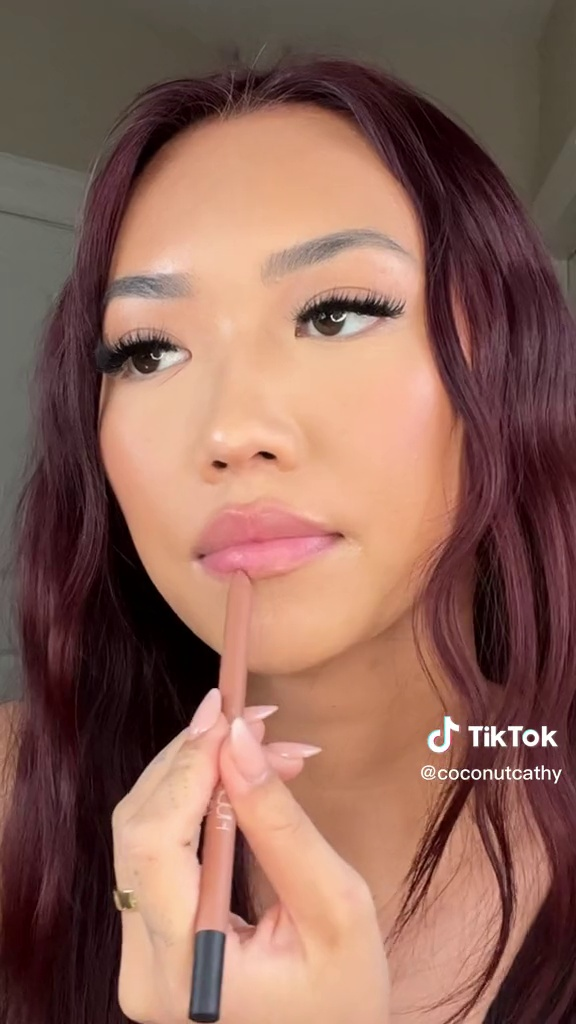train' :'yolo_data/train/images',: (174, 557, 261, 1023)
